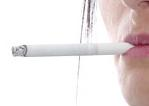smoke: (11, 42, 135, 57)
